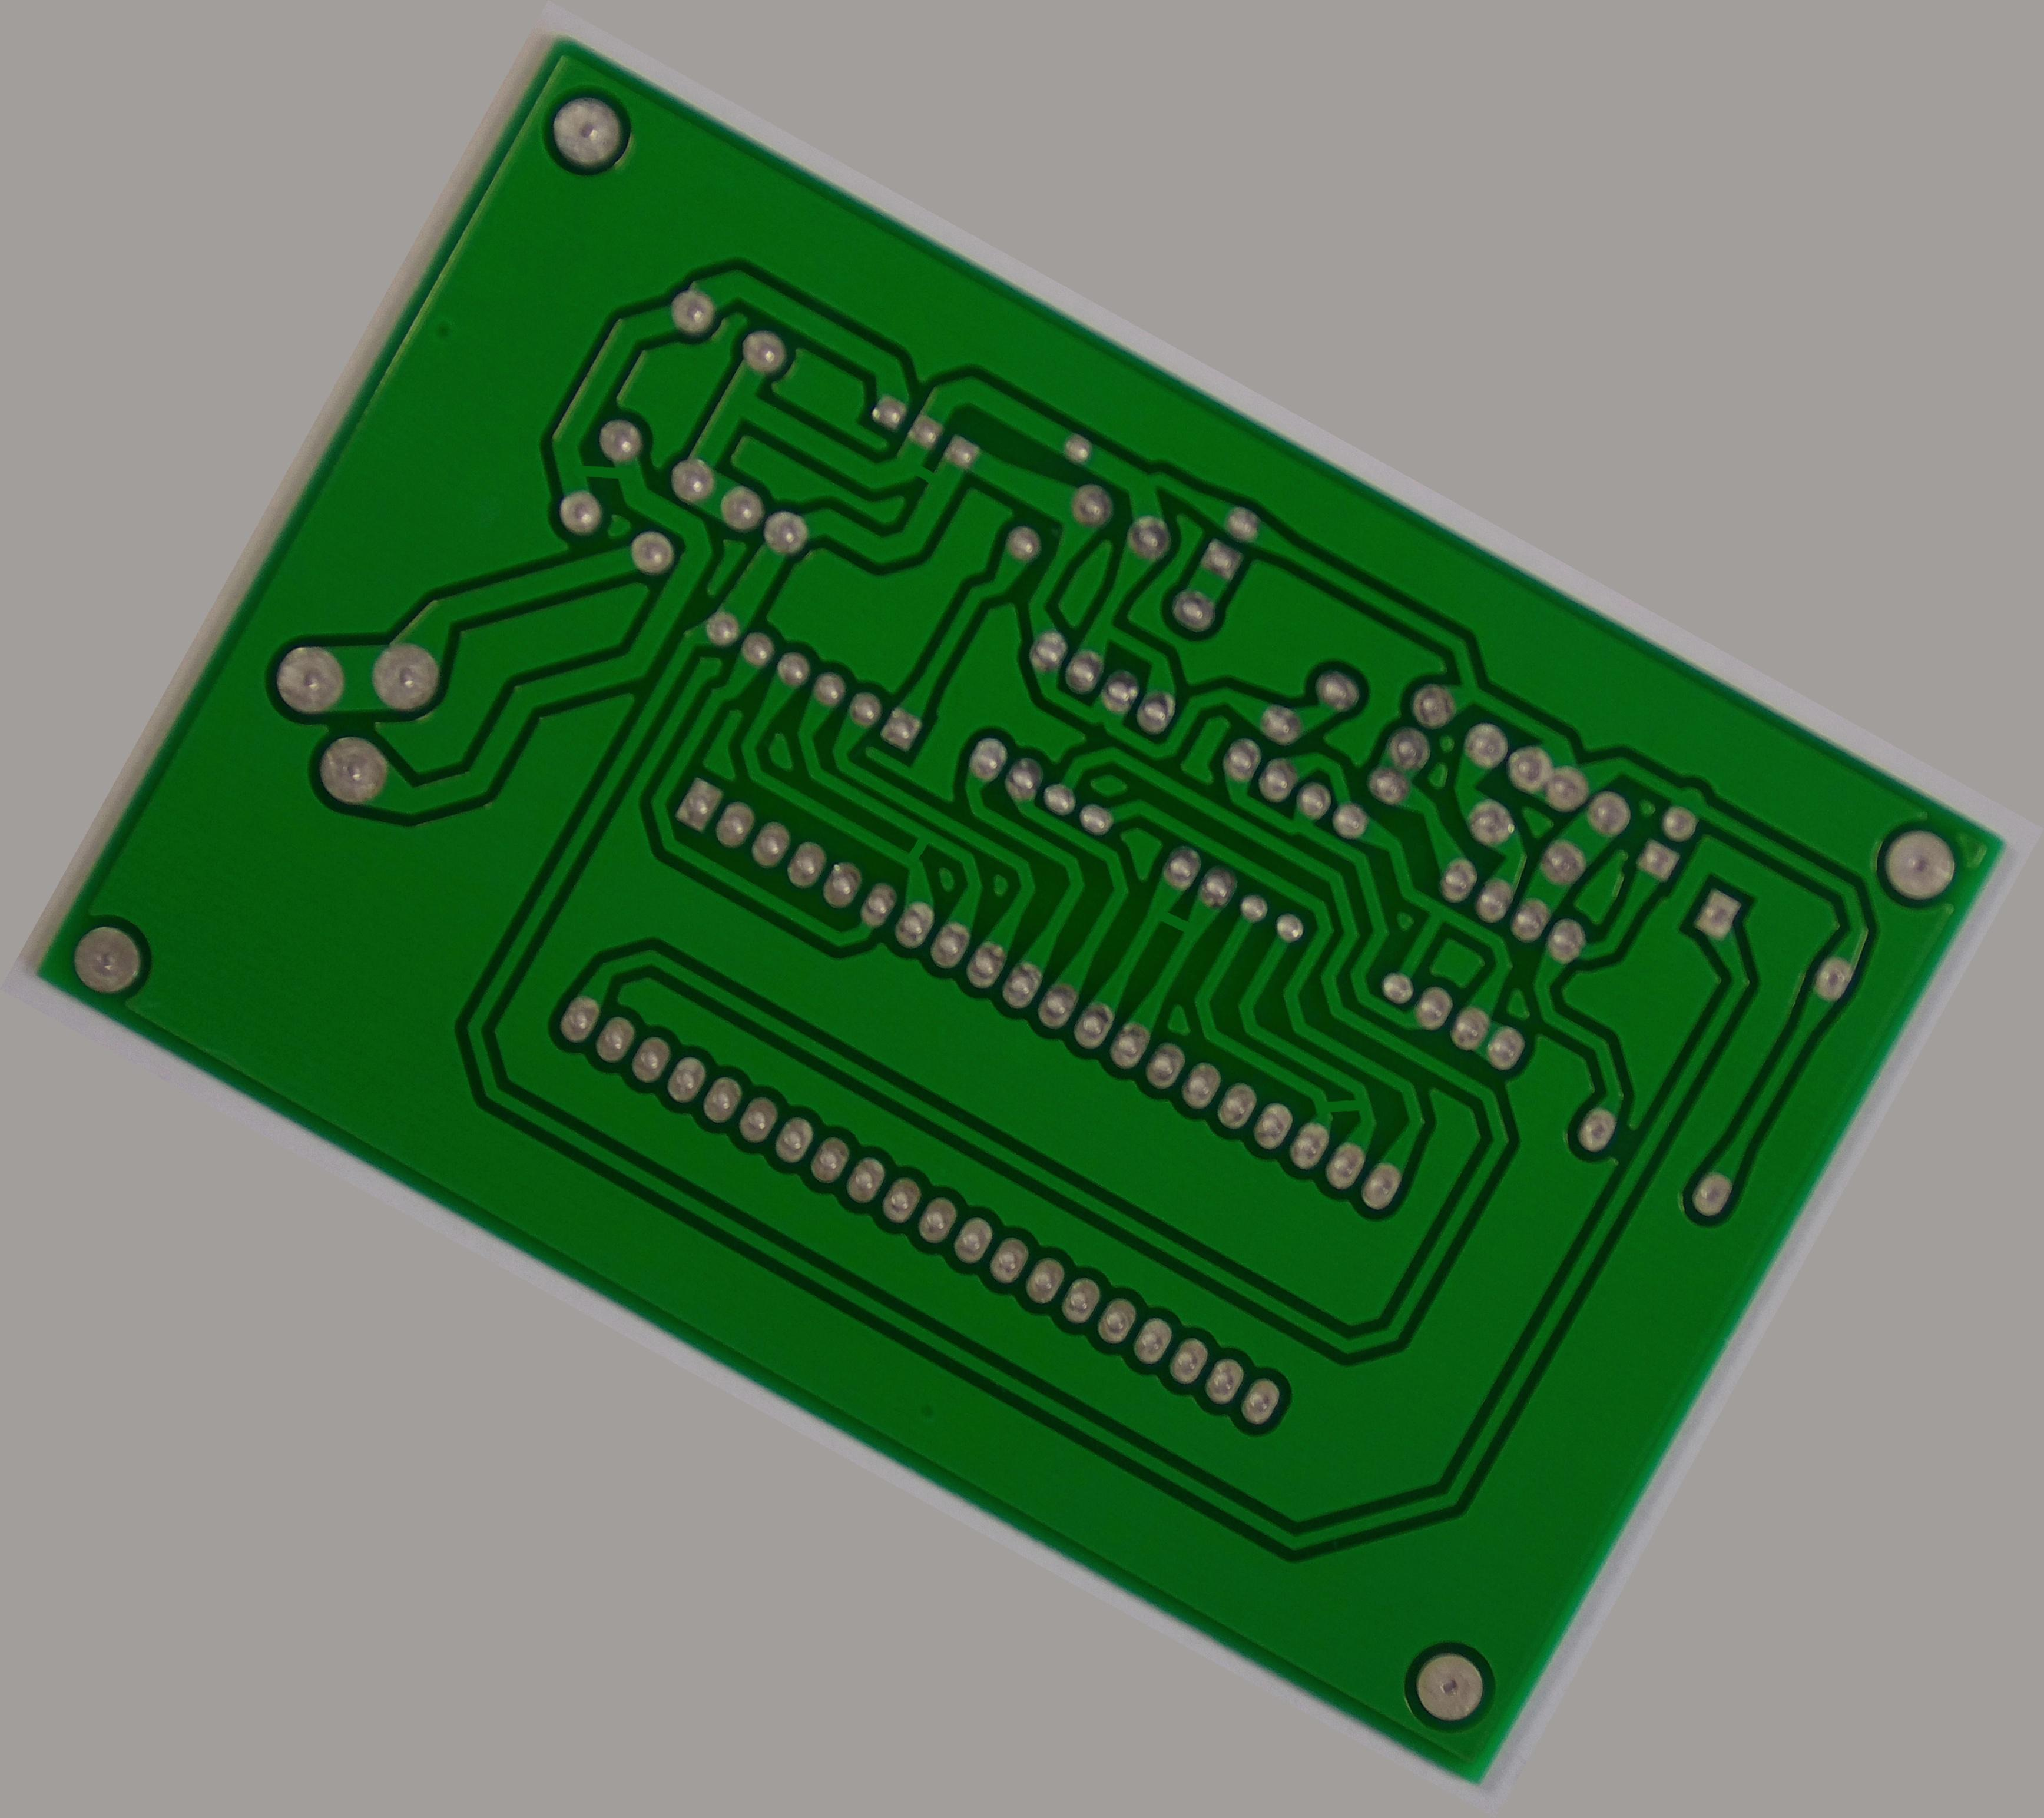short: (546, 423, 647, 514), (1293, 1060, 1388, 1146), (874, 809, 958, 886), (881, 437, 963, 512), (1133, 888, 1212, 960)
